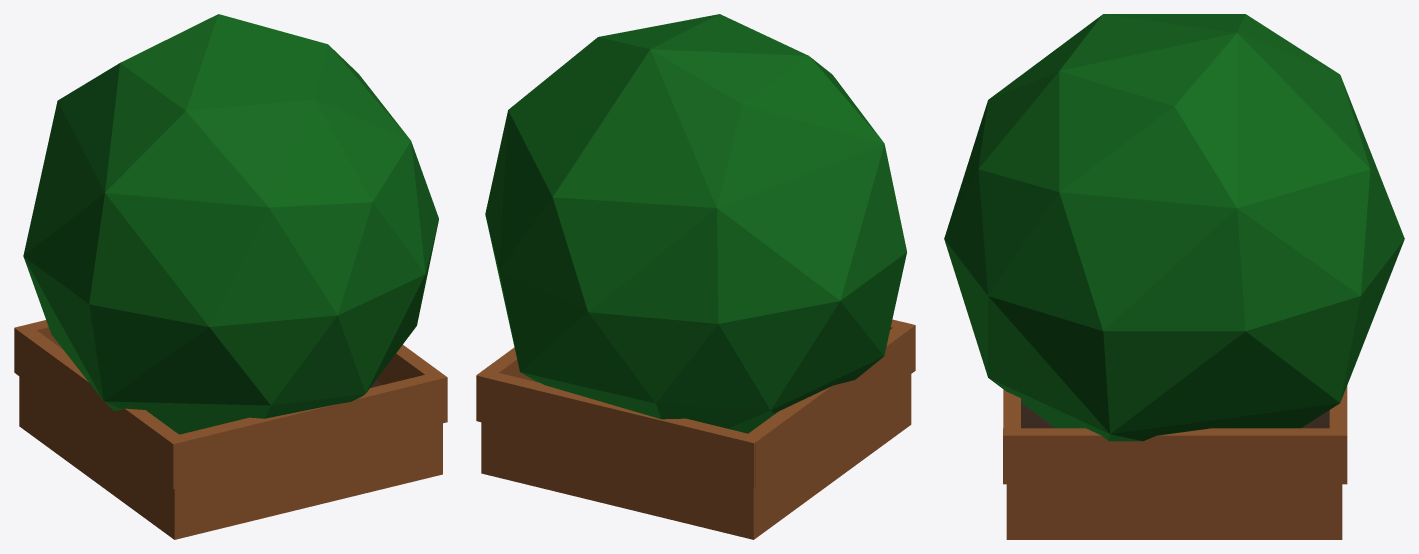
File: arbusto2.fbx
3 renders of one model, left to right at view 1: azimuth 30°, elevation 25°; view 2: azimuth 150°, elevation 25°; view 3: azimuth 270°, elevation 25°, orthographic. The views are drawn at different scales.
Visible parts, largest first — view 1: Icosphere, Cube, Cube.001, Cube.003, Cube.004; view 2: Icosphere, Cube, Cube.002, Cube.003, Cube.004; view 3: Icosphere, Cube, Cube.004, Cube.001, Cube.002.
Boxes of the visible parts, bbox=[...] form: Icosphere: bbox=[23, 14, 438, 434]; Cube: bbox=[19, 376, 442, 539]; Cube.001: bbox=[165, 375, 433, 485]; Cube.003: bbox=[15, 325, 187, 488]; Cube.004: bbox=[376, 345, 447, 425]; Icosphere: bbox=[485, 14, 906, 433]; Cube: bbox=[481, 374, 911, 539]; Cube.002: bbox=[476, 373, 761, 488]; Cube.003: bbox=[748, 325, 915, 487]; Cube.004: bbox=[477, 347, 535, 381]; Icosphere: bbox=[944, 14, 1404, 441]; Cube: bbox=[1006, 402, 1342, 539]; Cube.004: bbox=[1003, 428, 1344, 484]; Cube.001: bbox=[1003, 389, 1020, 435]; Cube.002: bbox=[1329, 386, 1347, 484].
Size of the model in its own units: 628 by 705 by 662.
